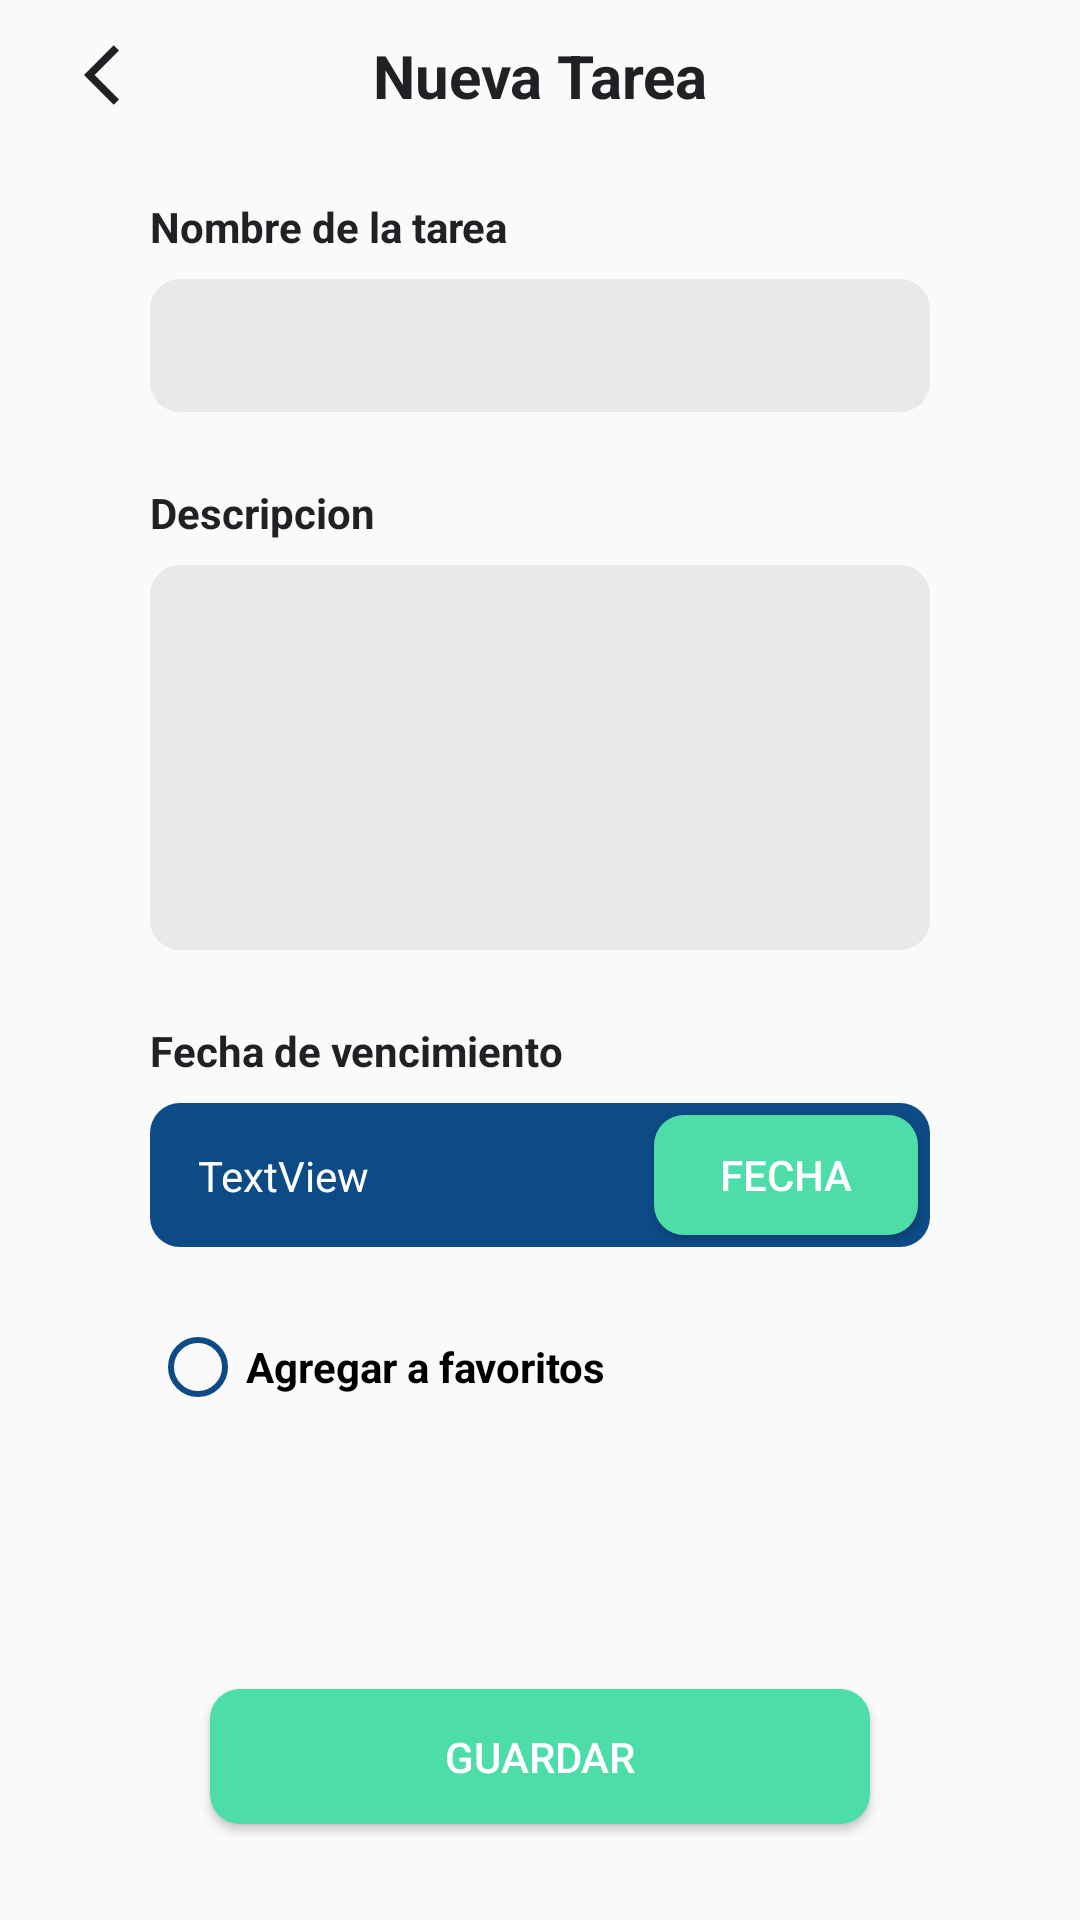

Where to tap for icons on this 1080px×1920px app screen, as [x,y]:
arrow back: [101,75]
